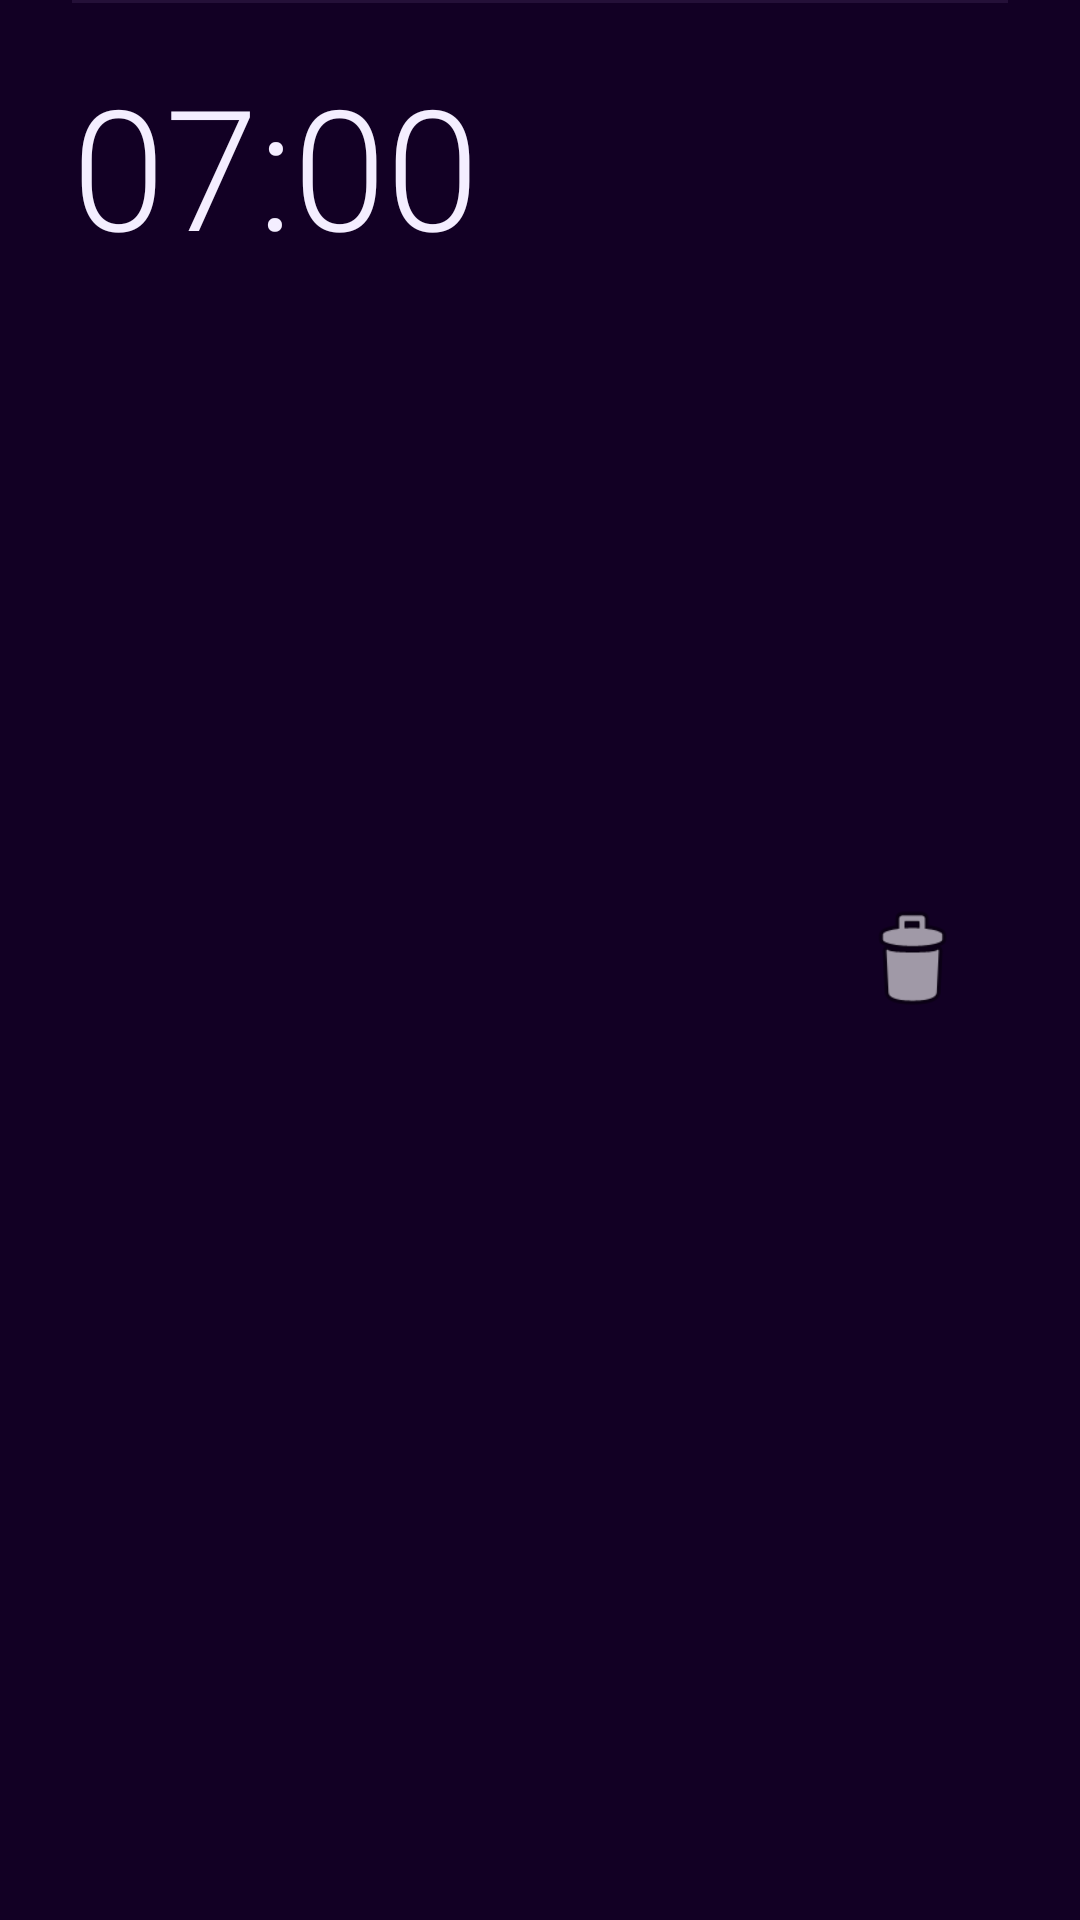

Where icons sit on this 1080*1920 app screen, as box=[x1, y1, x2, y2]:
delete: box=[882, 915, 943, 1002]
